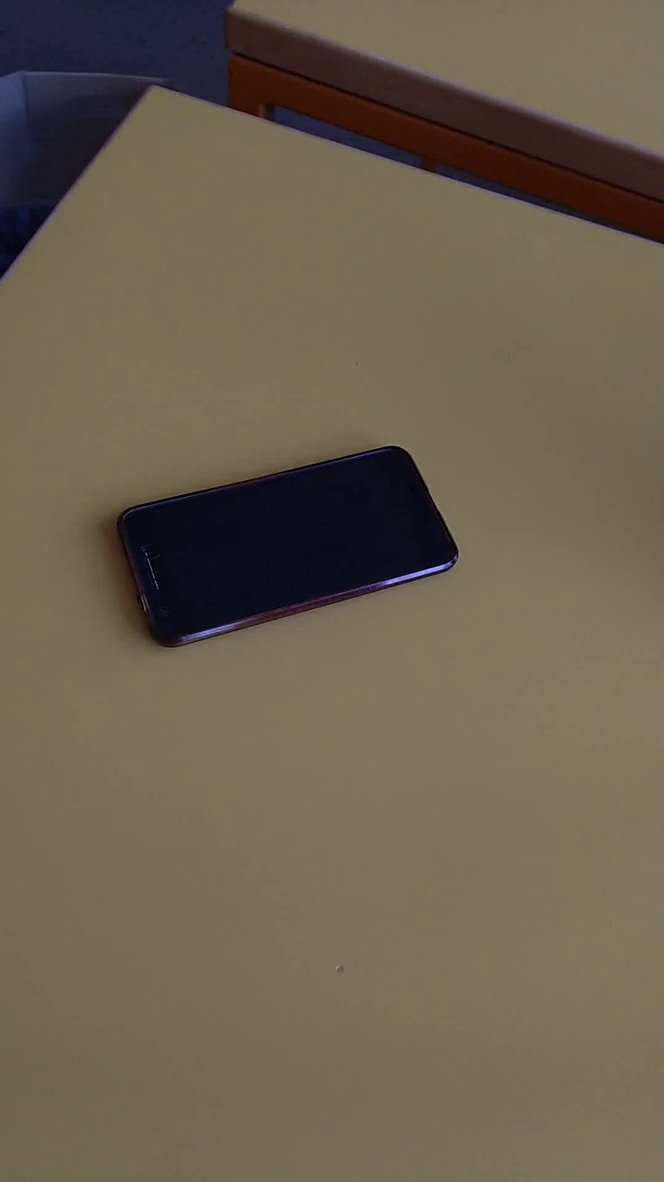phone: (97, 431, 471, 663)
